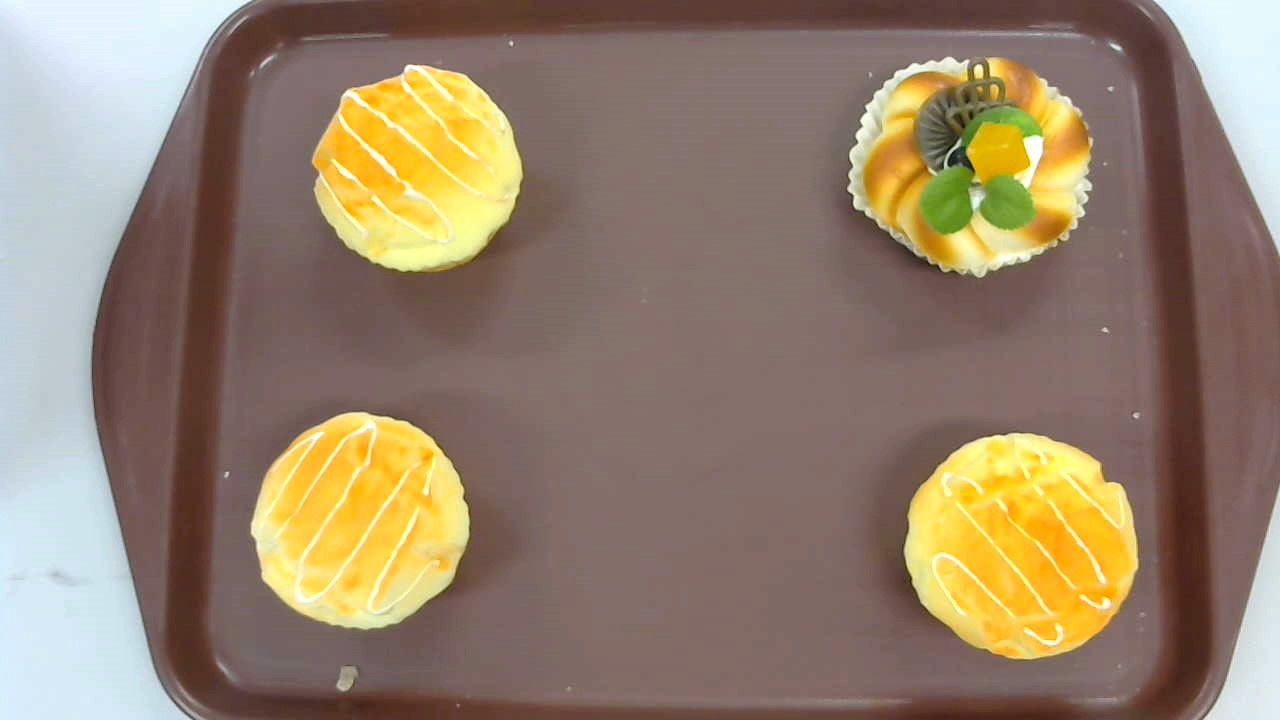cupcake: (903, 431, 1139, 661), (250, 412, 471, 629), (311, 62, 525, 275)
fruit tart: (847, 54, 1095, 280)
